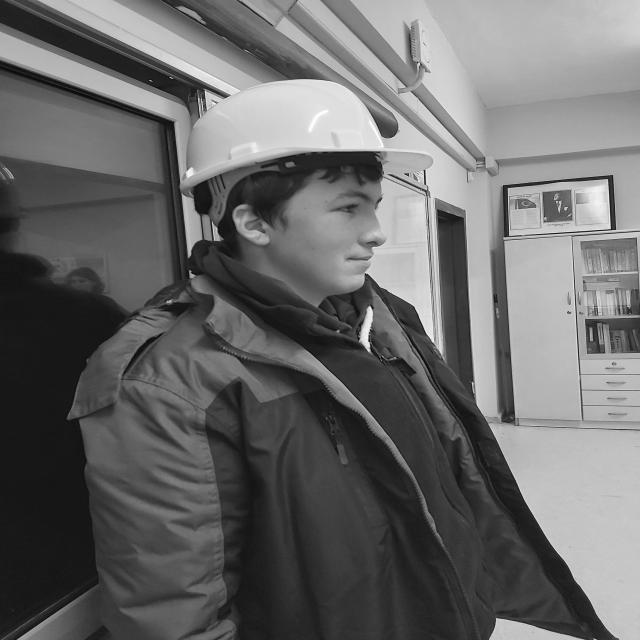safety_helmet: (180, 81, 397, 238)
